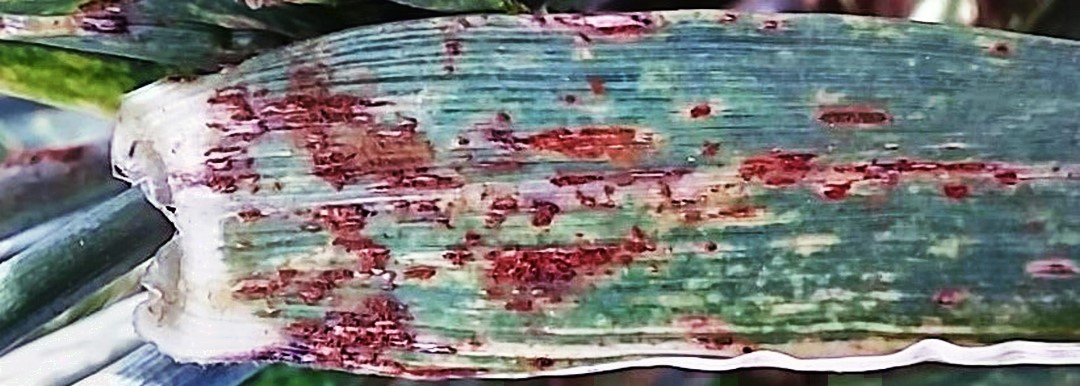Leaf Rust: (228, 41, 964, 366)
